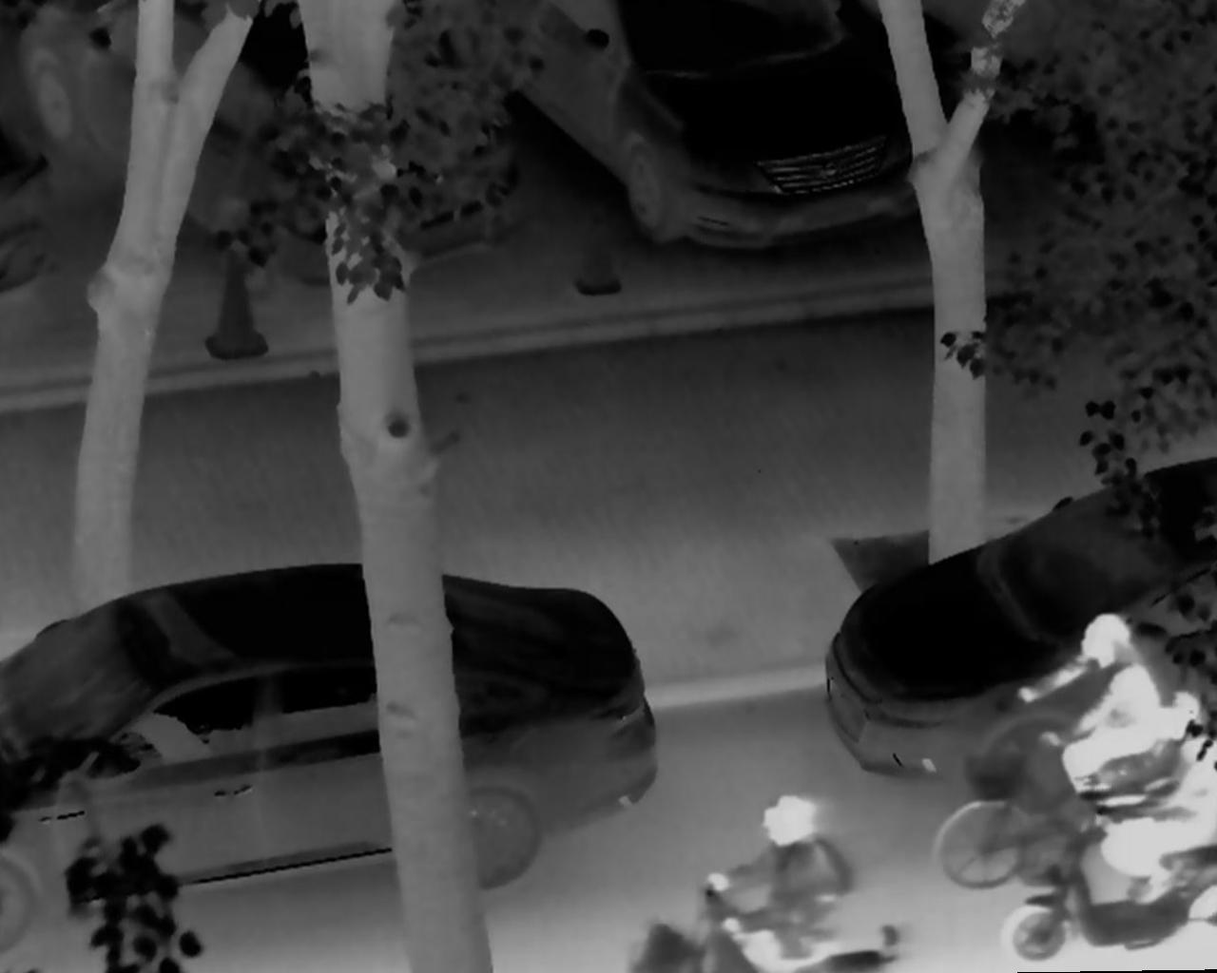person: (1085, 677, 1217, 911), (1016, 599, 1167, 800), (704, 786, 851, 973)
